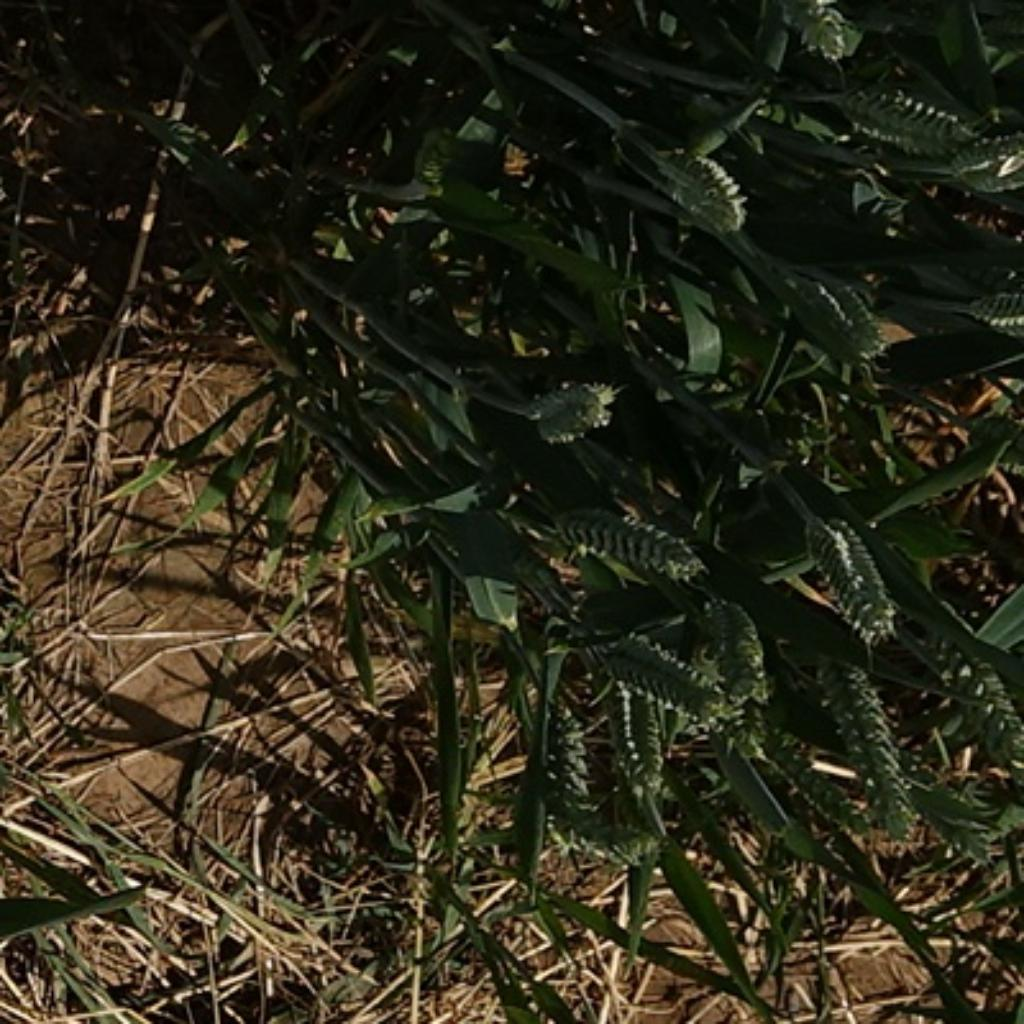0-0: (811, 655, 909, 834), (550, 494, 714, 581), (835, 80, 991, 167), (800, 516, 902, 646), (925, 627, 1024, 755), (789, 260, 903, 371), (602, 629, 726, 723), (642, 130, 752, 230), (546, 799, 665, 878), (911, 776, 1000, 876), (736, 0, 860, 70), (705, 593, 774, 711), (519, 688, 593, 798), (517, 371, 619, 448), (602, 678, 666, 796), (404, 119, 478, 206), (956, 281, 1024, 340), (723, 711, 775, 766)
